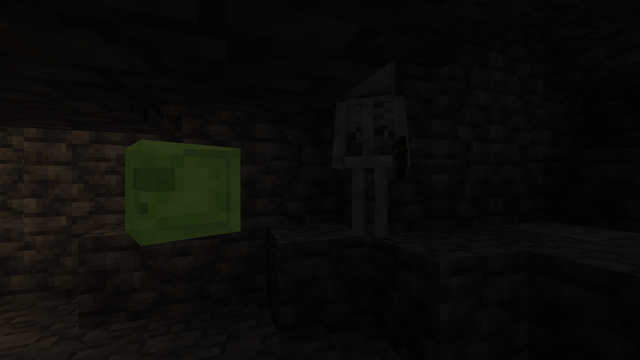slimes: (112, 135, 227, 244)
squelettes: (334, 89, 409, 243)
